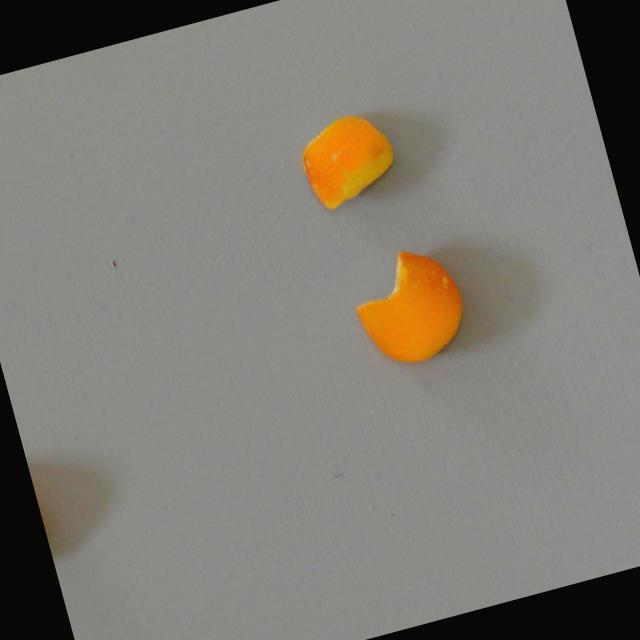dañado: (343, 232, 482, 376), (272, 91, 409, 225)
